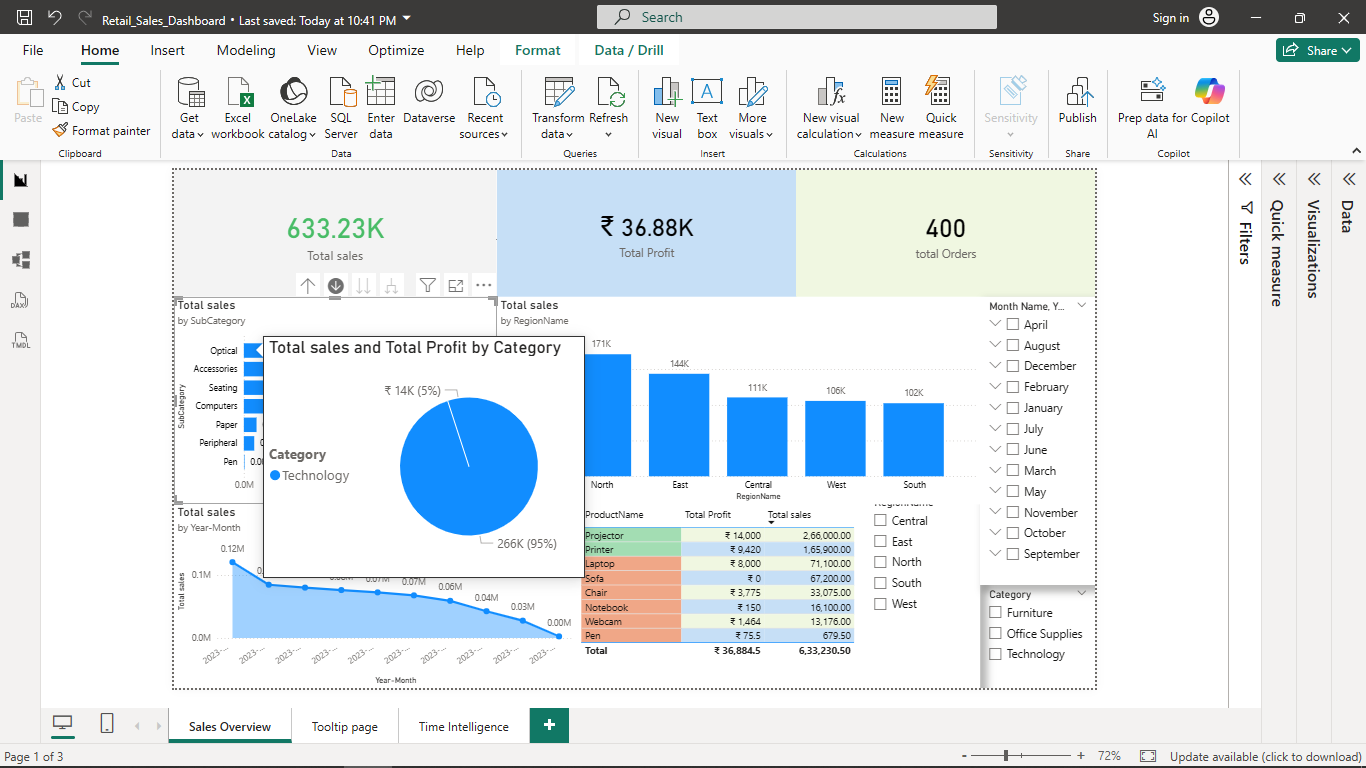

This screenshot's page, from the dashboard's own definition file:
{"tool":"powerbi","page":{"name":"Sales Overview","canvas":[1280,720],"ordinal":0},"visuals":[{"type":"card","fields":{"Values":["Measure (2).Total sales"]},"box":[0,0,448,176],"z":0},{"type":"card","fields":{"Values":["Measure (2).Total Profit"]},"box":[448,0,416,176],"z":1000},{"type":"card","fields":{"Values":["Measure (2).total Orders"]},"box":[864,0,416,176],"z":2000},{"type":"lineChart","fields":{"Y":["Measure (2).Total sales"],"Category":["DimDate.Year-Month"]},"box":[0,464,560,256],"z":5000},{"type":"slicer","fields":{"Values":["DimProducts.Category"]},"box":[1120,576,160,144],"z":7000},{"type":"slicer","fields":{"Values":["DimRegions.RegionName"]},"box":[960,448,160,272],"z":8000},{"type":"slicer","fields":{"Values":["DimDate.Month Name","DimDate.Year-Month"]},"box":[1120,176,160,400],"z":9000},{"type":"clusteredBarChart","fields":{"Category":["DimProducts.Category","DimProducts.SubCategory"],"Y":["Measure (2).Total sales"]},"box":[0,176,448,288],"z":9001},{"type":"tableEx","fields":{"Values":["DimProducts.ProductName","Measure (2).Total Profit","Measure (2).Total sales"]},"box":[560,464,400,256],"z":9002},{"type":"clusteredColumnChart","fields":{"Category":["DimRegions.RegionName"],"Y":["Measure (2).Total sales"]},"box":[448,176,672,288],"z":9003}]}

Visuals, with their boxes on the page's 1280x720 design canvas (x1, y1, x2, y2). These are canvas units, not pixel positions in the 1366x768 screenshot, which may show the page scaled, cropped or inside an application window:
card - Measure (2).Total sales: detection(0, 0, 448, 176)
card - Measure (2).Total Profit: detection(448, 0, 864, 176)
card - Measure (2).total Orders: detection(864, 0, 1280, 176)
lineChart - Measure (2).Total sales x DimDate.Year-Month: detection(0, 464, 560, 720)
slicer - DimProducts.Category: detection(1120, 576, 1280, 720)
slicer - DimRegions.RegionName: detection(960, 448, 1120, 720)
slicer - DimDate.Month Name x DimDate.Year-Month: detection(1120, 176, 1280, 576)
clusteredBarChart - DimProducts.Category x DimProducts.SubCategory: detection(0, 176, 448, 464)
tableEx - DimProducts.ProductName x Measure (2).Total Profit: detection(560, 464, 960, 720)
clusteredColumnChart - DimRegions.RegionName x Measure (2).Total sales: detection(448, 176, 1120, 464)
